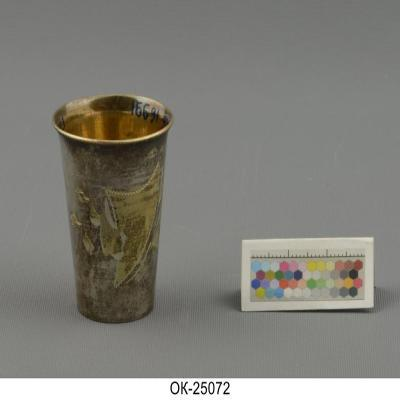dpi: (52, 94, 174, 326)
